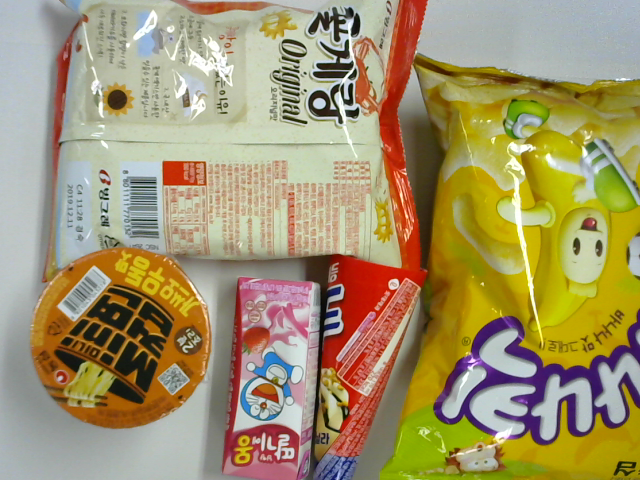Banana_Kick: (382, 54, 640, 479)
Crabrang: (44, 1, 433, 277)
Strawberry_E_Mong: (222, 277, 320, 480)
Udongmini: (29, 249, 212, 429)
World_Cone_Banila: (310, 255, 427, 480)
